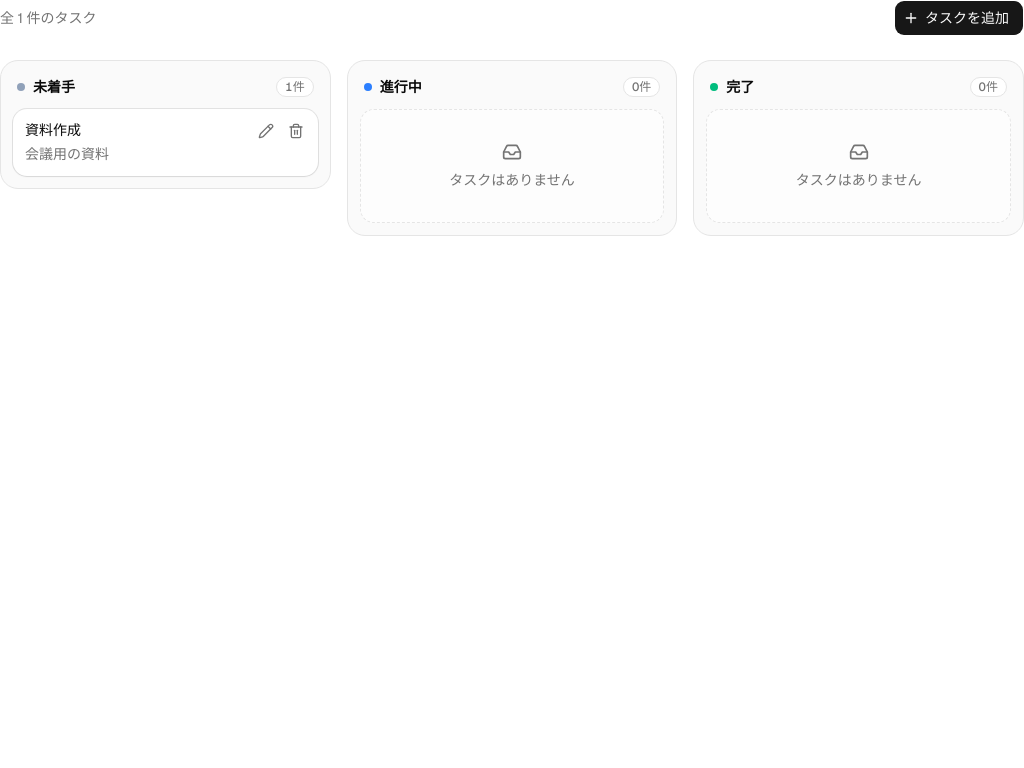
Scenario: KanbanBoard › 削除 › 削除ボタンを押すと、タスク名を含む確認ダイアログを表示し、まだ削除しない
Click the button named "「資料作成」を削除" at (296, 131), box [282,117,310,145]
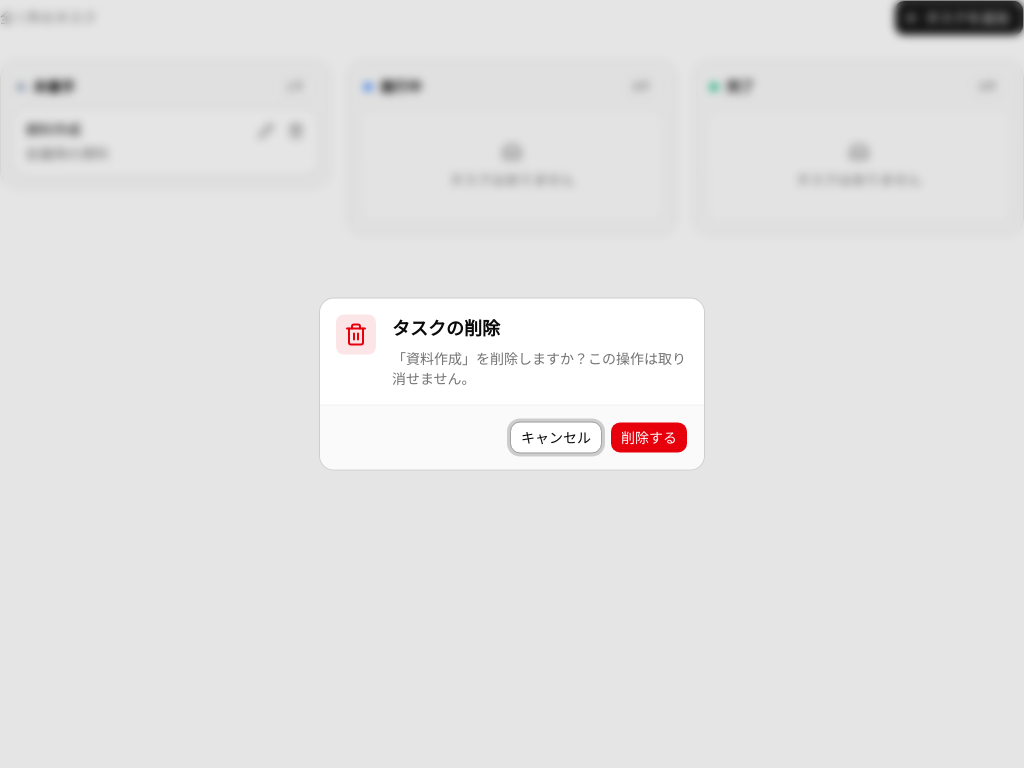
Result: the dialog "タスクの削除" shows "「資料作成」を削除しますか？" at [392,350,686,388]
